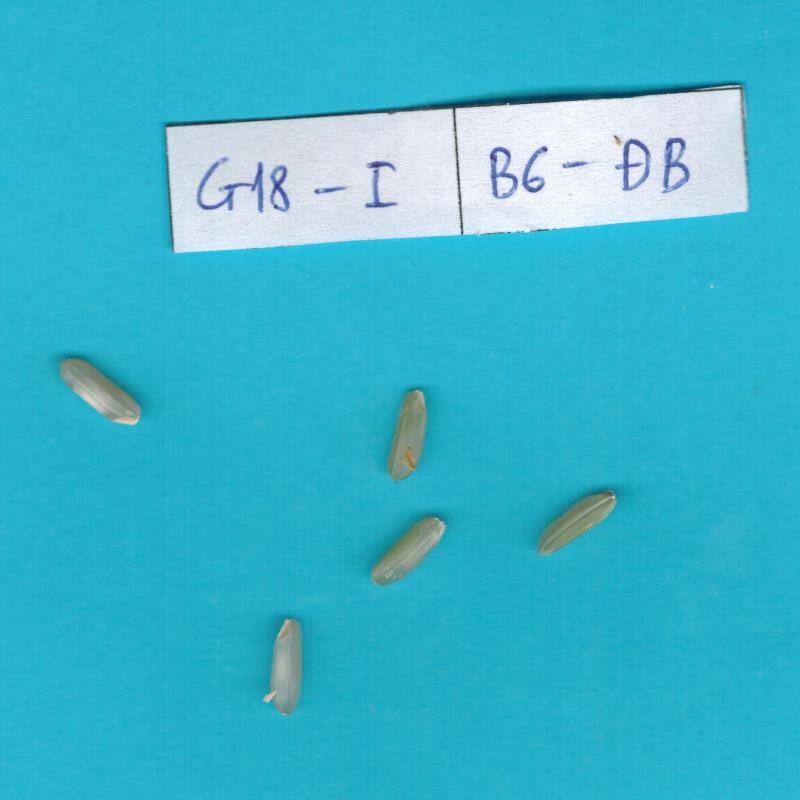Rice: (60, 357, 141, 425), (371, 518, 445, 586), (537, 492, 616, 555), (388, 390, 426, 481), (270, 619, 301, 715)
